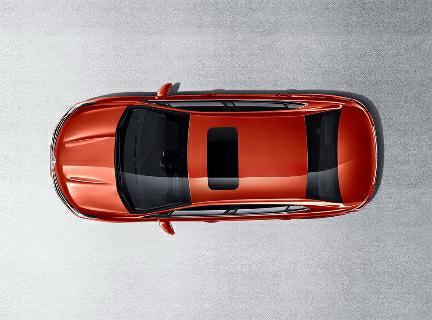雪铁龙-C4L: (47, 78, 384, 239)
